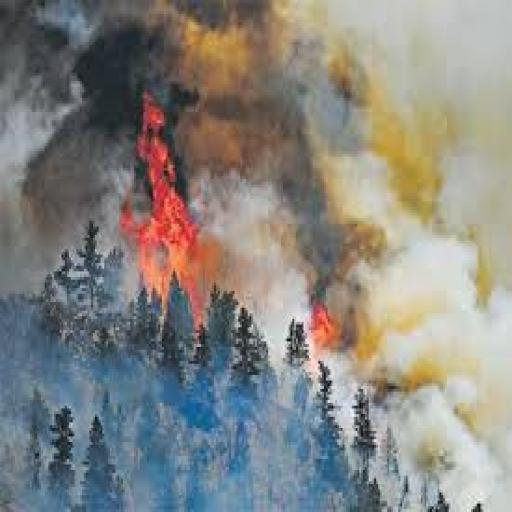fire: (143, 109, 194, 327)
smoke: (212, 34, 512, 434)
